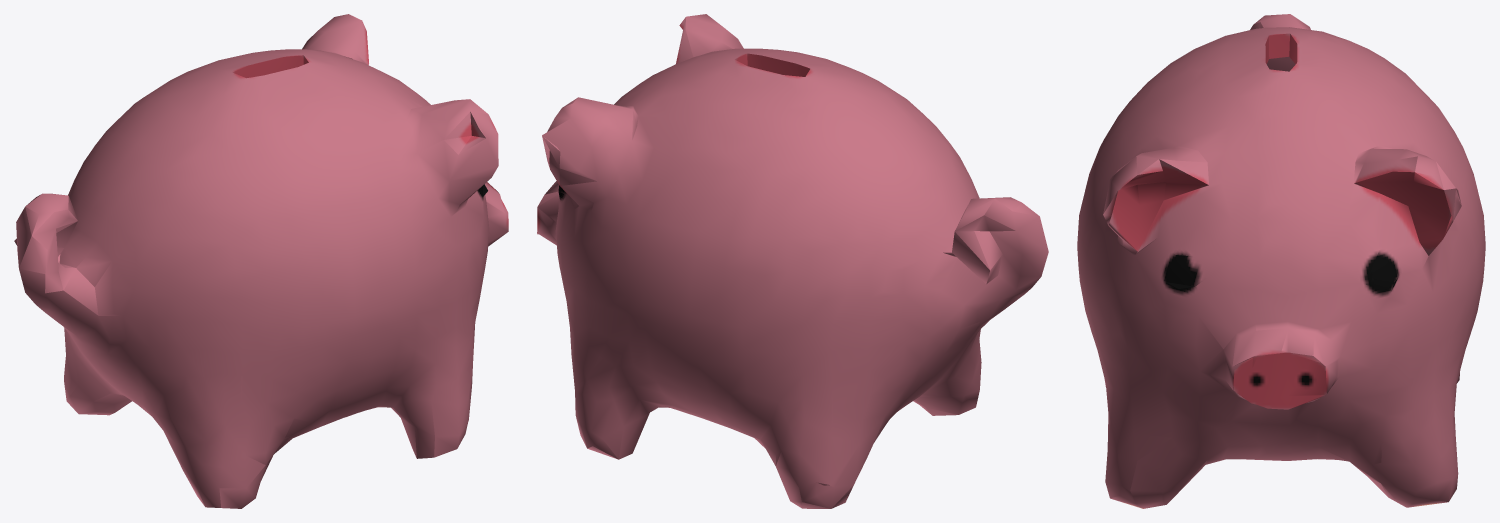
The model's file is piggy_bank_c.glb.
3 views of the same model, side by side, from view 1: azimuth 30°, elevation 25°; view 2: azimuth 150°, elevation 25°; view 3: azimuth 270°, elevation 25° (orthographic). The views are drawn at different scales.
Visible parts, largest first — view 1: mesh; view 2: mesh; view 3: mesh.
Part boxes in pixels (box(x1,y1,x2,y2)): mesh: box(14, 14, 508, 508); mesh: box(537, 14, 1048, 508); mesh: box(1077, 14, 1485, 508).
Bounding box in the file's own units: 0.2195 × 0.16 × 0.1468.
Materials: 1 (1 with a texture image).
